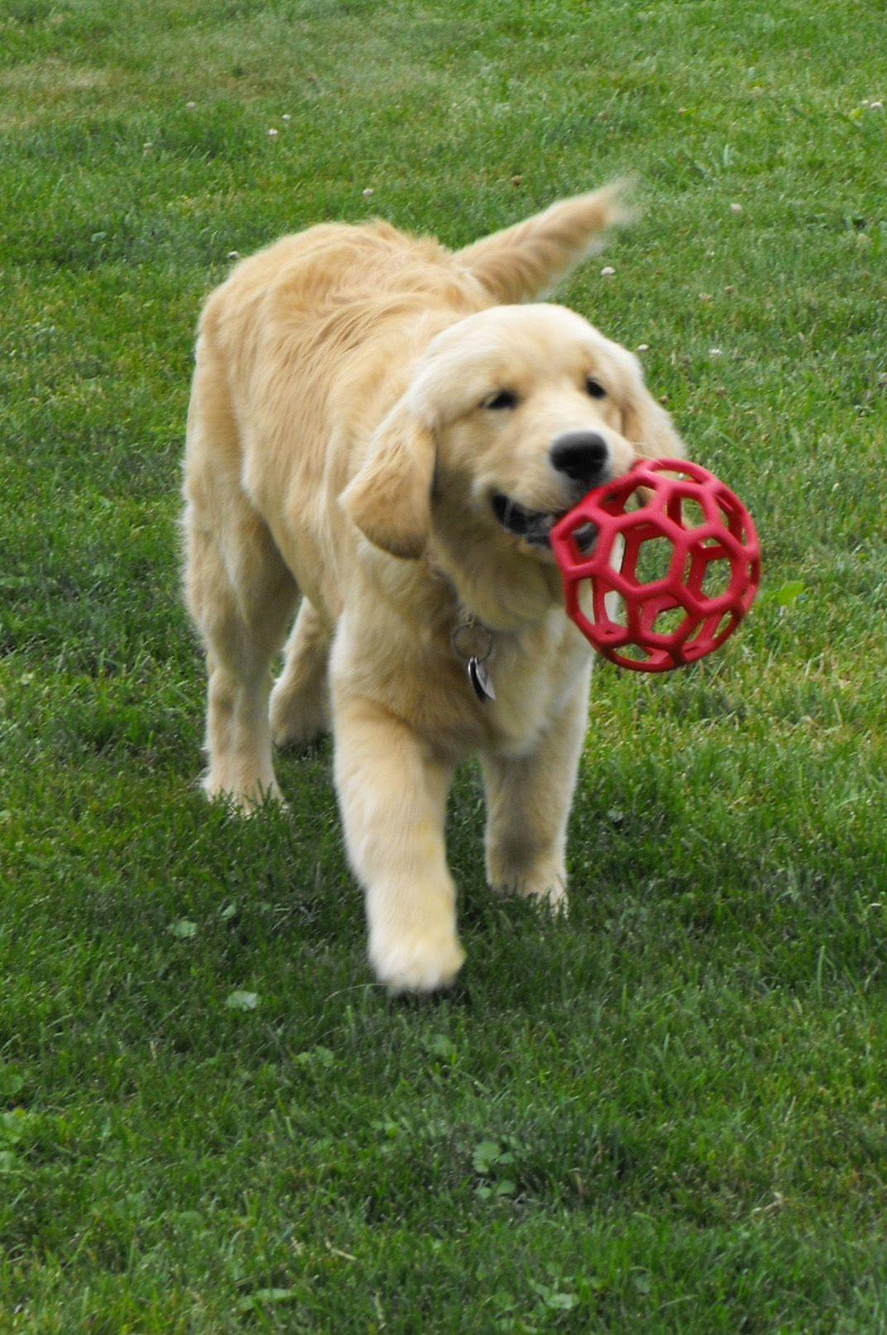puppy-dog: (175, 172, 692, 1001)
